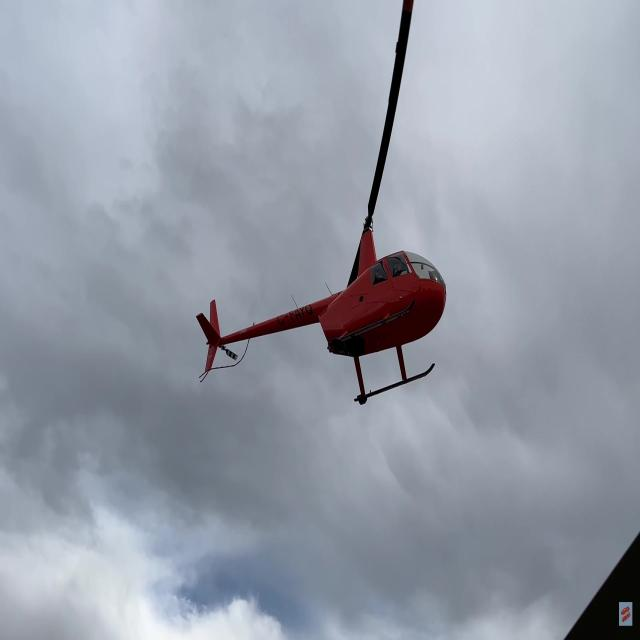CIV_HELO: (195, 208, 450, 402)
